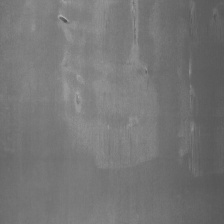rolled_pit: (52, 10, 75, 38)
